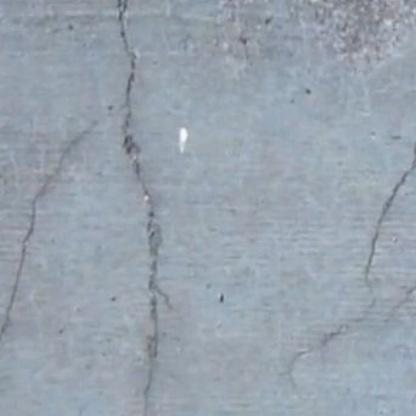Cracks: (276, 76, 416, 397), (0, 108, 101, 405), (108, 0, 173, 416)
